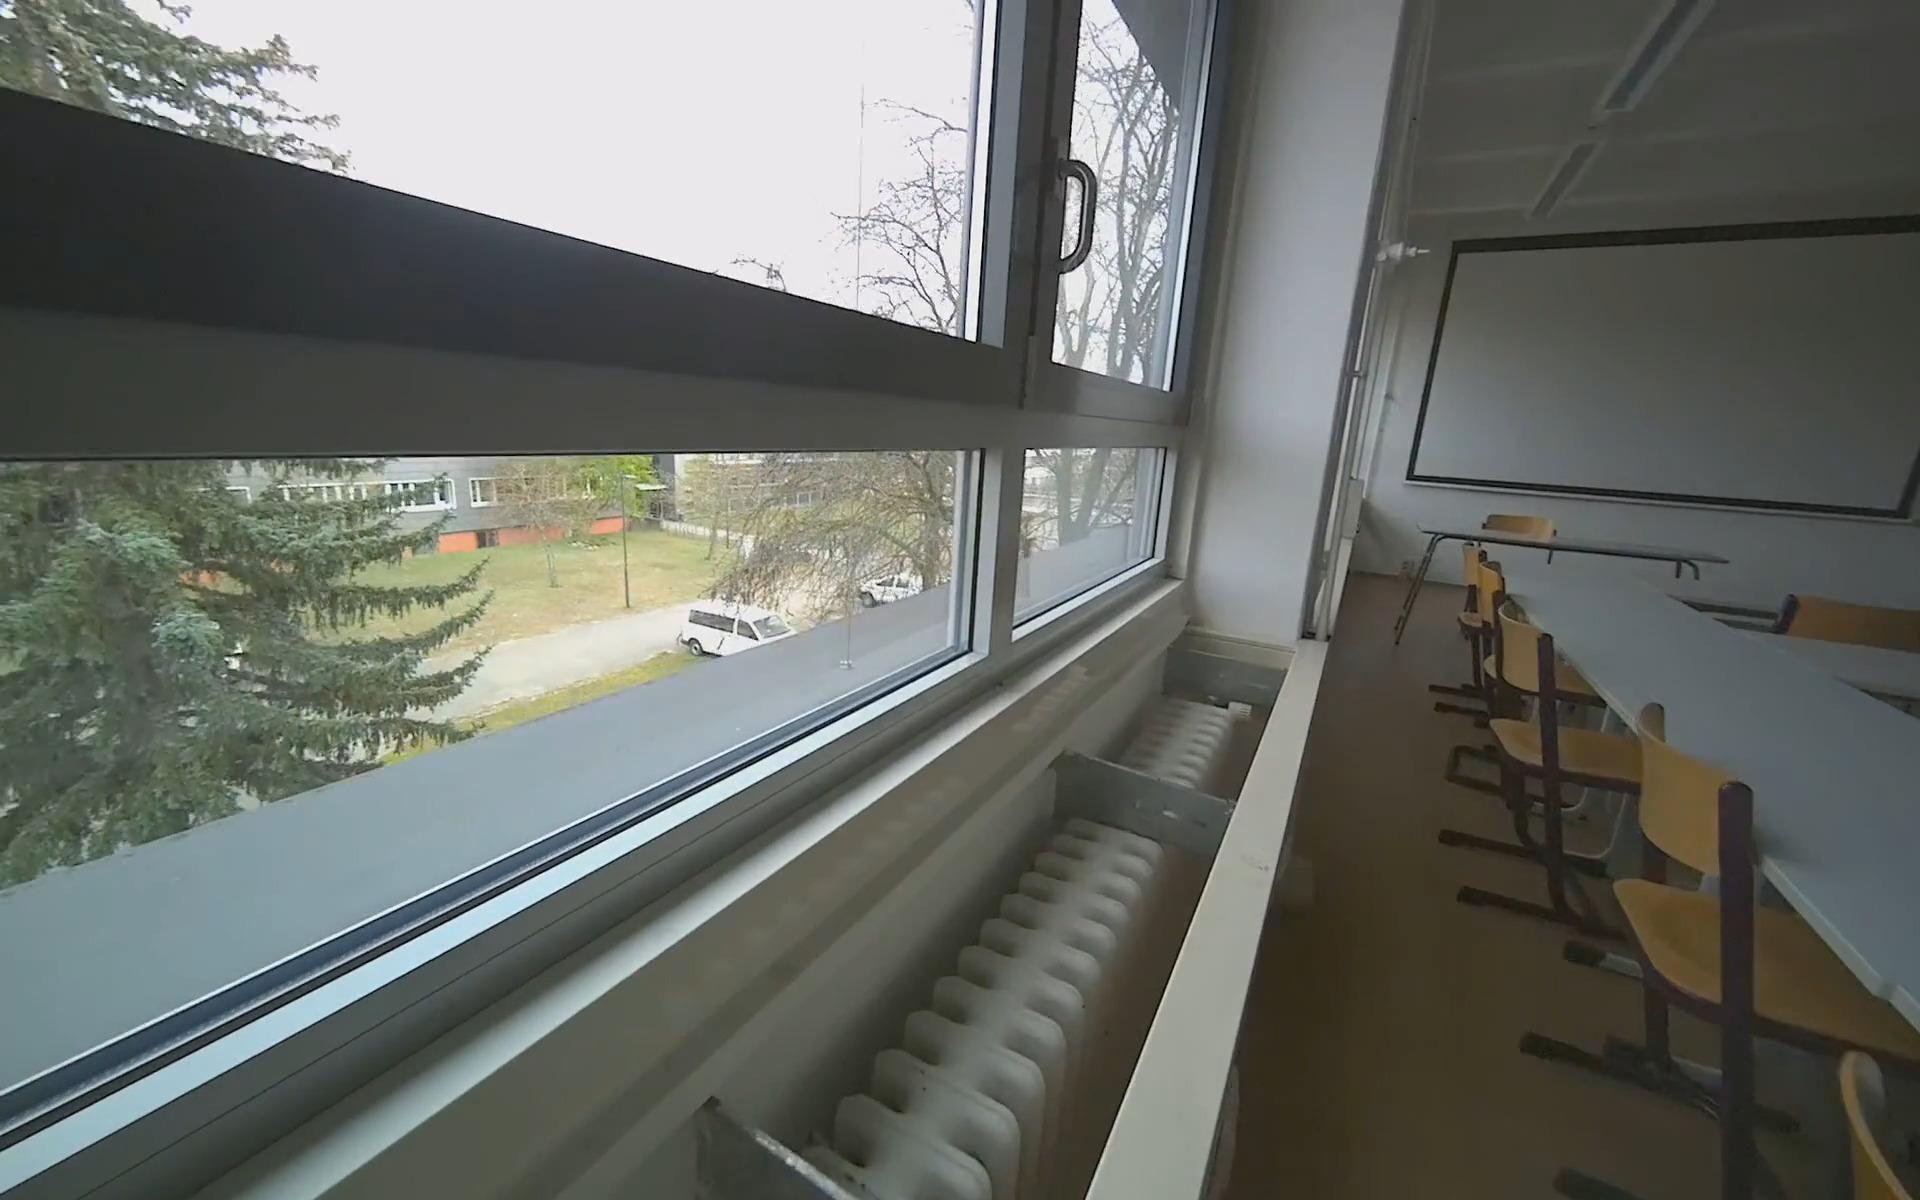chair: (1522, 693, 1916, 1200), (1681, 570, 1920, 915), (1431, 594, 1656, 958), (1469, 557, 1593, 764), (1433, 546, 1532, 725), (1472, 506, 1563, 673)
light: (1586, 0, 1720, 120), (1518, 143, 1601, 221)
radiator: (759, 690, 1262, 1200)
window: (0, 0, 1246, 1199)
